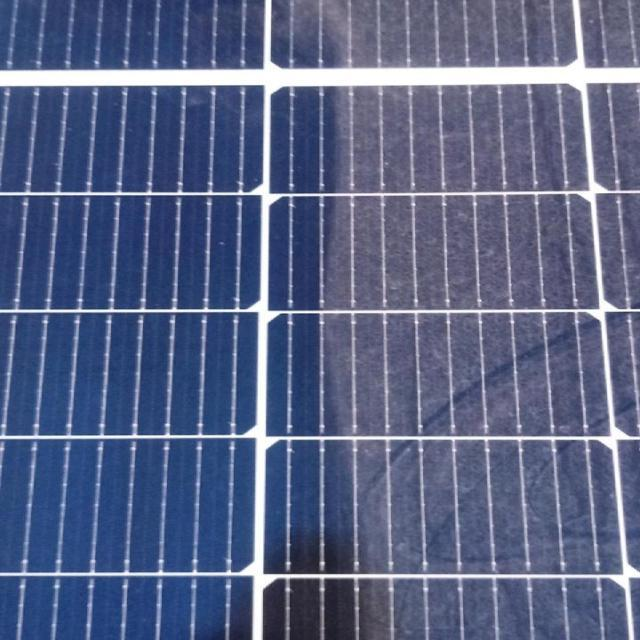faulty: (271, 0, 640, 640)
no faulty: (0, 0, 258, 627)
